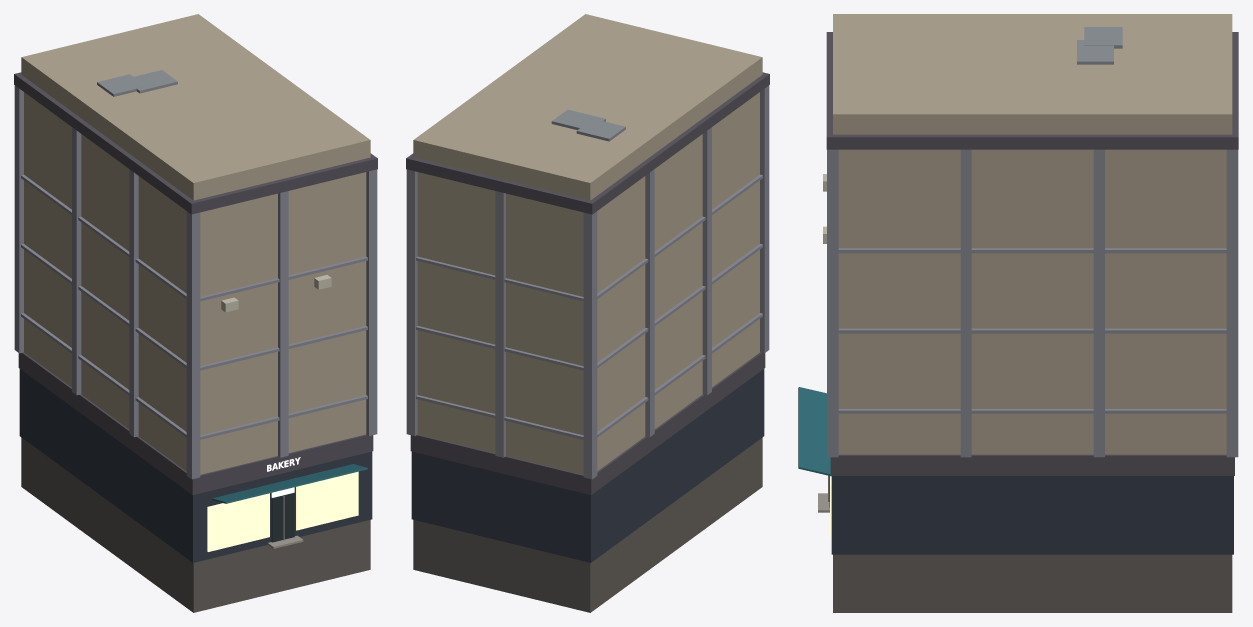
The model's file is building_5.glb.
The picture shows the model from 3 angles, left to right: view 1: azimuth 30°, elevation 25°; view 2: azimuth 150°, elevation 25°; view 3: azimuth 270°, elevation 25°; orthographic projection. The views are drawn at different scales.
Visible parts, largest first — view 1: building; view 2: building; view 3: building.
Part boxes in pixels (left/top/right/bottom): building: left=14, top=14, right=377, bottom=612; building: left=406, top=14, right=769, bottom=612; building: left=798, top=14, right=1238, bottom=612.
Bounding box in the file's own units: 10 × 22.19 × 17.64.
